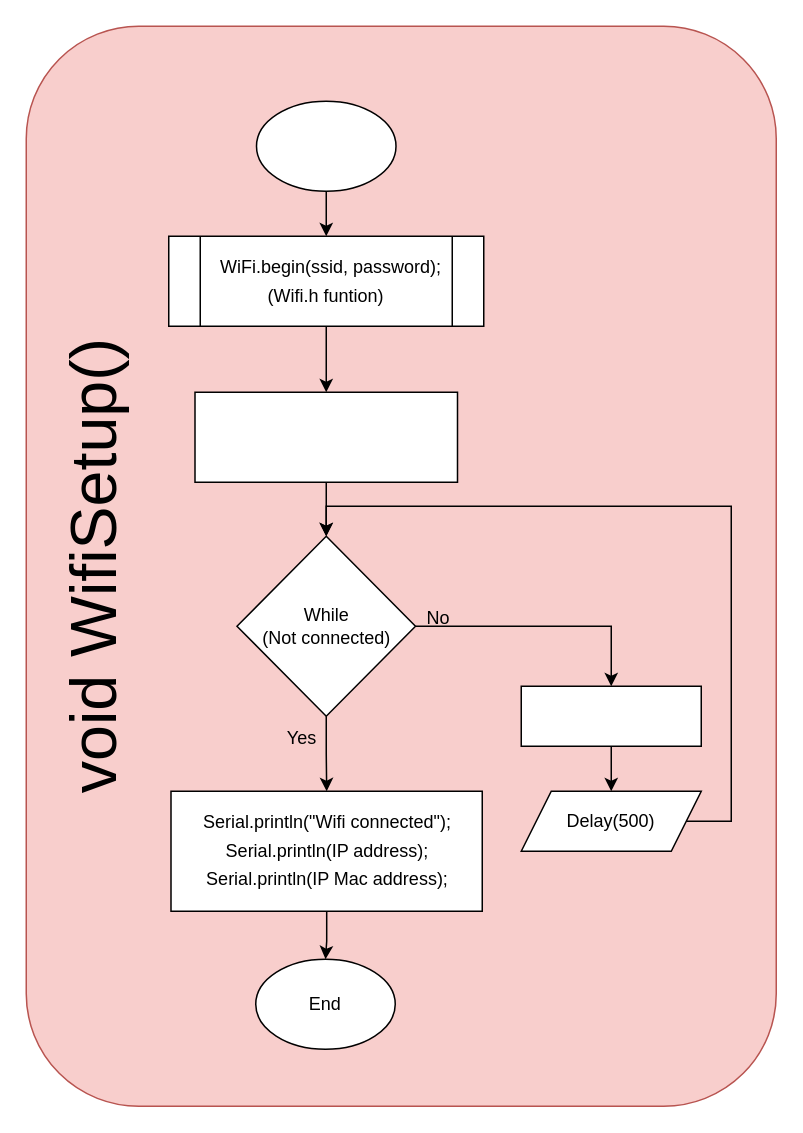
The diagram is 803 pixels wide and 1133 high, and some of its shapes have lost their labels. The centre of each missing label's shape, as x and y in pixels:
Serial.print(".");: point (610, 715)
Serial.print("Connecting to: "); Serial.print(ssid);: point (326, 436)
Start: point (325, 145)
